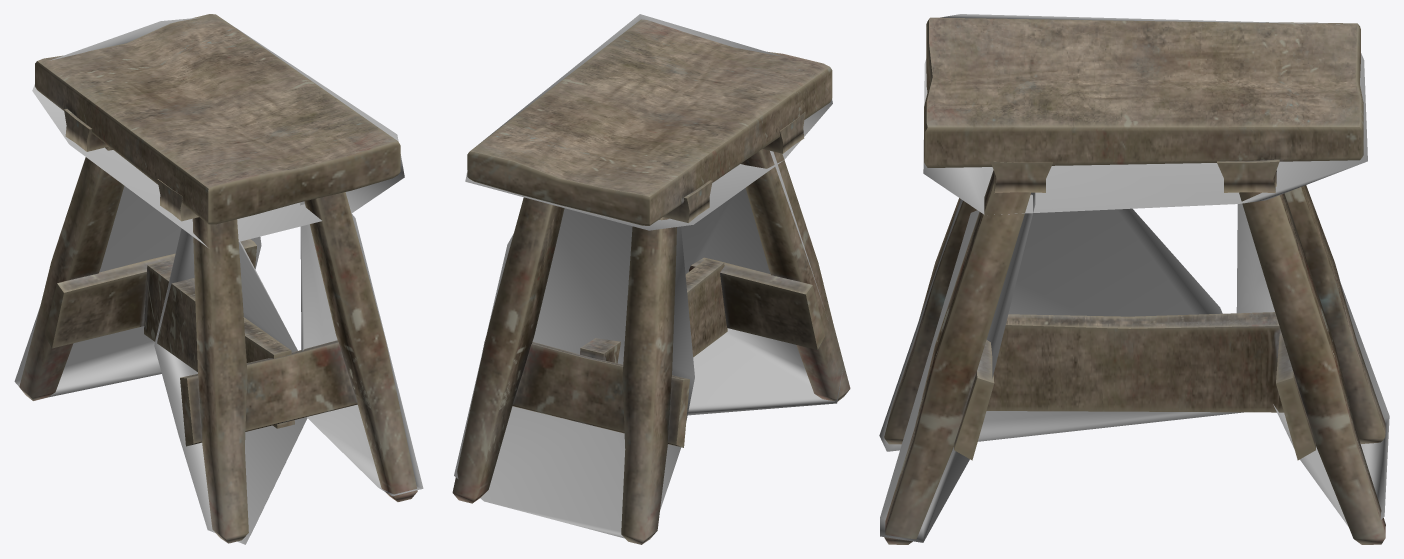
File: SM_Stool.gltf
3 renders of one model, left to right at view 1: azimuth 30°, elevation 25°; view 2: azimuth 150°, elevation 25°; view 3: azimuth 270°, elevation 25°, orthographic. The views are drawn at different scales.
Parts seen in each view (by area): view 1: SM_Stool_LOD0, SM_Stool_ConvexHulls; view 2: SM_Stool_LOD0, SM_Stool_ConvexHulls; view 3: SM_Stool_LOD0, SM_Stool_ConvexHulls.
Part boxes in pixels (box(x1,y1,x2,y2)): SM_Stool_LOD0: box(19, 14, 417, 543); SM_Stool_ConvexHulls: box(14, 17, 423, 544); SM_Stool_LOD0: box(452, 19, 850, 544); SM_Stool_ConvexHulls: box(454, 14, 842, 538); SM_Stool_LOD0: box(884, 17, 1385, 544); SM_Stool_ConvexHulls: box(879, 14, 1389, 542).
Size of what is drawn, in the model's own units: 0.4615 by 0.7701 by 0.8252.
